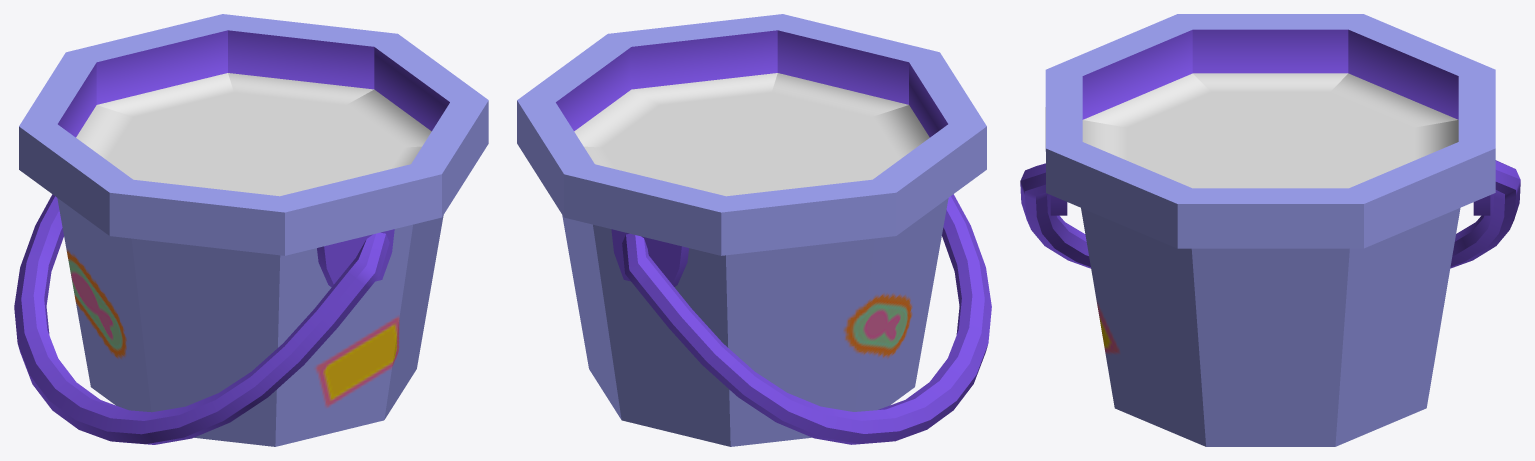
Rendered from WormBucketModel_Fish_06.fbx.
3 views of the same model, side by side, from view 1: azimuth 30°, elevation 25°; view 2: azimuth 150°, elevation 25°; view 3: azimuth 270°, elevation 25° (orthographic). The views are drawn at different scales.
Parts seen in each view (by area): view 1: WormBucket_Body, WormBucket_Handle, WormBucket_Pieces_01; view 2: WormBucket_Body, WormBucket_Handle, WormBucket_Pieces_02; view 3: WormBucket_Body, WormBucket_Handle.
Part boxes in pixels (<box>): WormBucket_Body: <box>19,14,488,446</box>; WormBucket_Handle: <box>14,194,389,444</box>; WormBucket_Pieces_01: <box>317,229,394,287</box>; WormBucket_Body: <box>517,14,986,446</box>; WormBucket_Handle: <box>622,194,991,444</box>; WormBucket_Pieces_02: <box>611,229,688,286</box>; WormBucket_Body: <box>1045,14,1495,446</box>; WormBucket_Handle: <box>1020,160,1520,268</box>.
Size of the model in its own units: 64.28 by 42.68 by 71.12.
